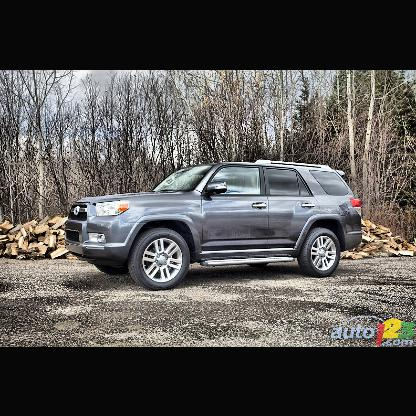Toyota 4Runner SUV 2012: (64, 159, 367, 292)
